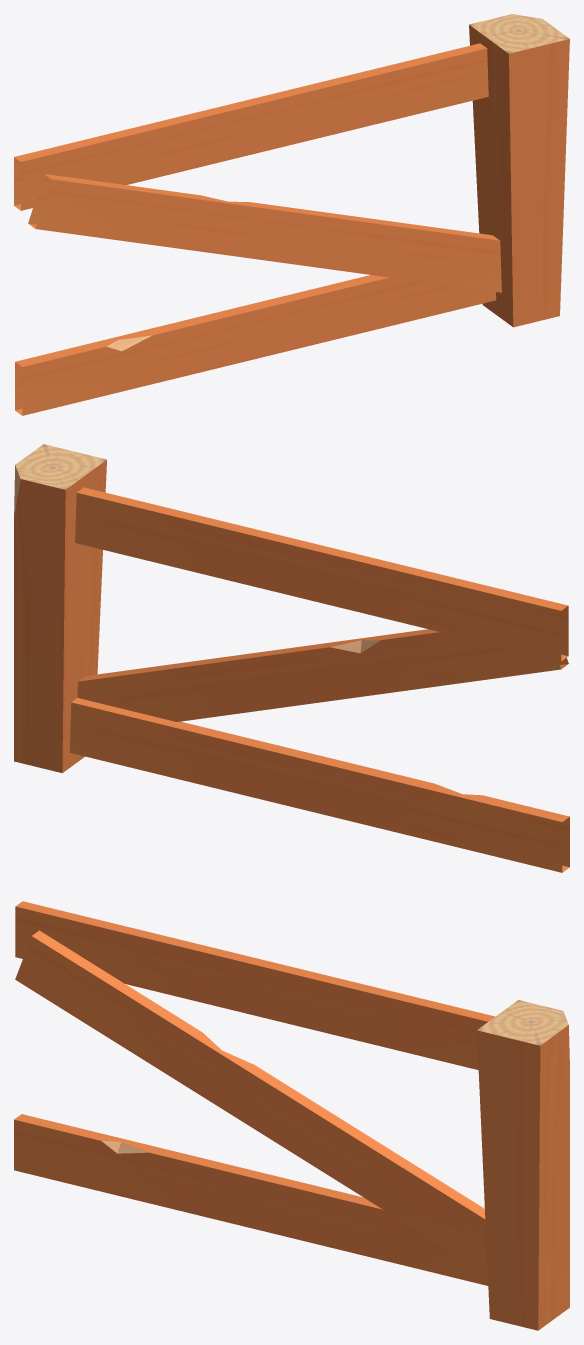
File: Fence_Z.fbx
3 views of the same model, one above another, from view 1: azimuth 30°, elevation 25°; view 2: azimuth 150°, elevation 25°; view 3: azimuth 330°, elevation 25° (orthographic). The views are drawn at different scales.
Parts seen in each view (by area): view 1: Fence_Z; view 2: Fence_Z; view 3: Fence_Z.
Boxes of the visible parts, left/top/right/bottom form: Fence_Z: left=14, top=14, right=569, bottom=415; Fence_Z: left=14, top=444, right=569, bottom=872; Fence_Z: left=14, top=901, right=569, bottom=1330.
Size of the model in its own units: 165 by 83.56 by 21.72.
